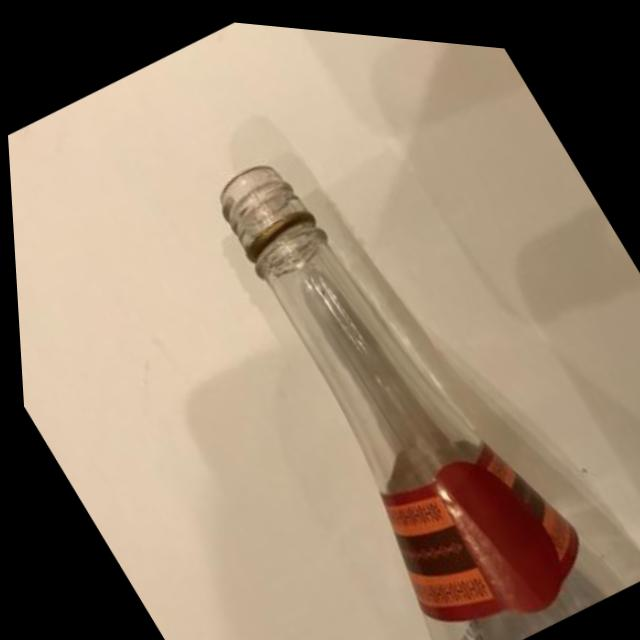glass: (80, 14, 640, 640)
